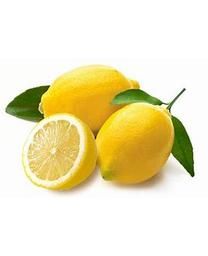lemon: (40, 66, 141, 134), (96, 104, 175, 185), (21, 113, 96, 192)
